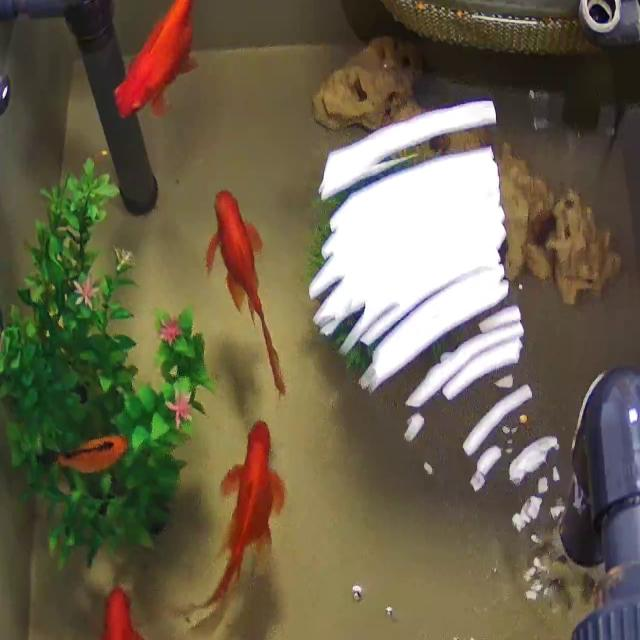fish: (194, 170, 306, 397), (184, 419, 284, 619), (112, 0, 205, 119), (88, 560, 164, 640), (40, 426, 125, 485)
